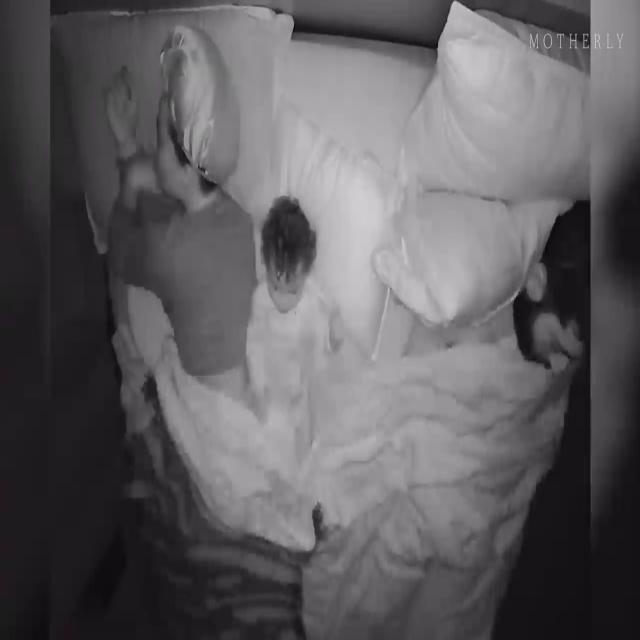baby: (245, 194, 338, 438)
